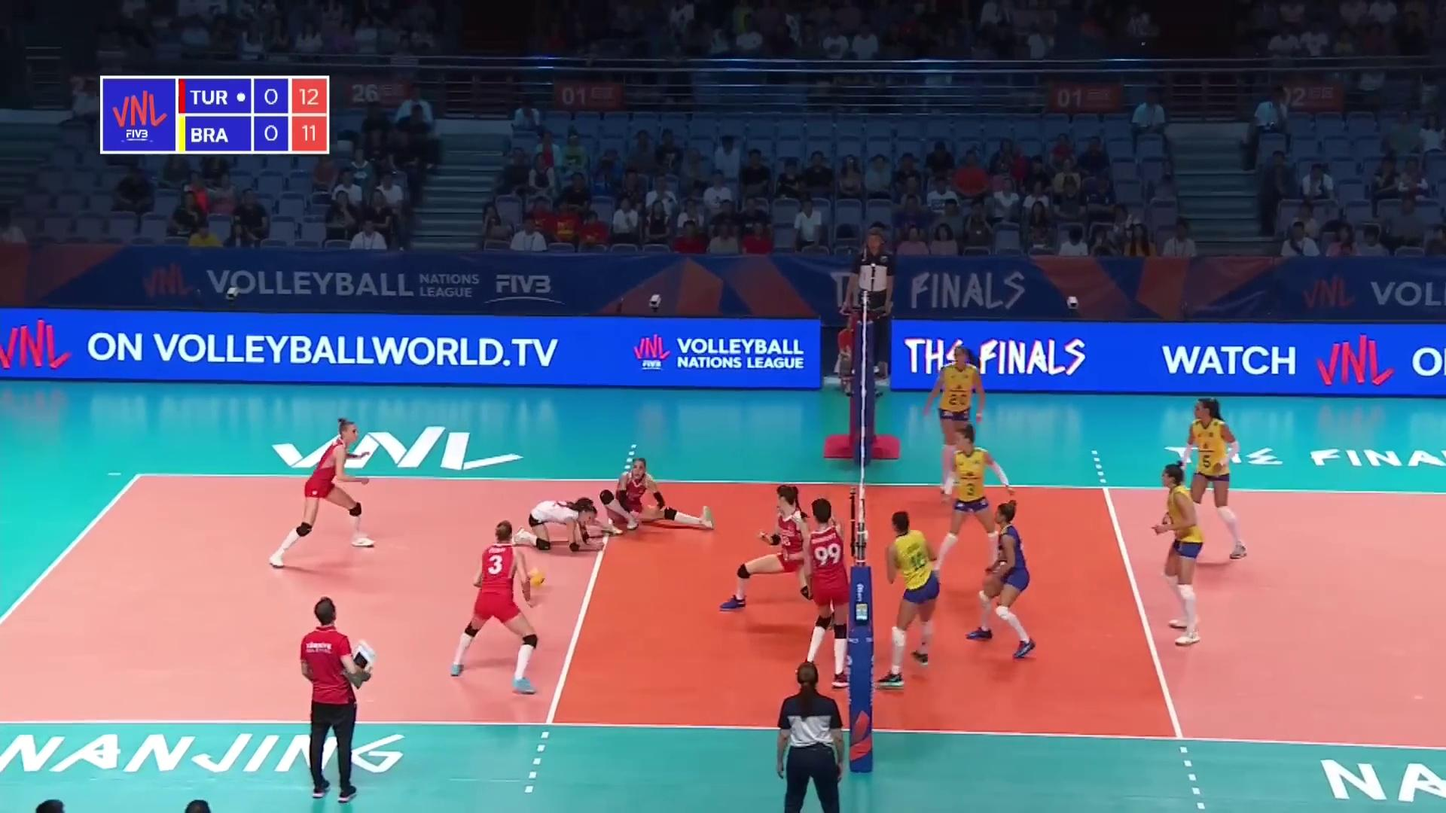player: (721, 487, 838, 627), (271, 421, 378, 564), (453, 521, 539, 690), (927, 428, 1009, 590), (1172, 398, 1247, 558), (795, 498, 849, 690), (599, 449, 717, 533), (881, 515, 938, 687), (1150, 465, 1204, 645), (972, 503, 1035, 657), (926, 347, 987, 494), (506, 491, 603, 552)
refree: (775, 661, 846, 813), (848, 227, 892, 367)
